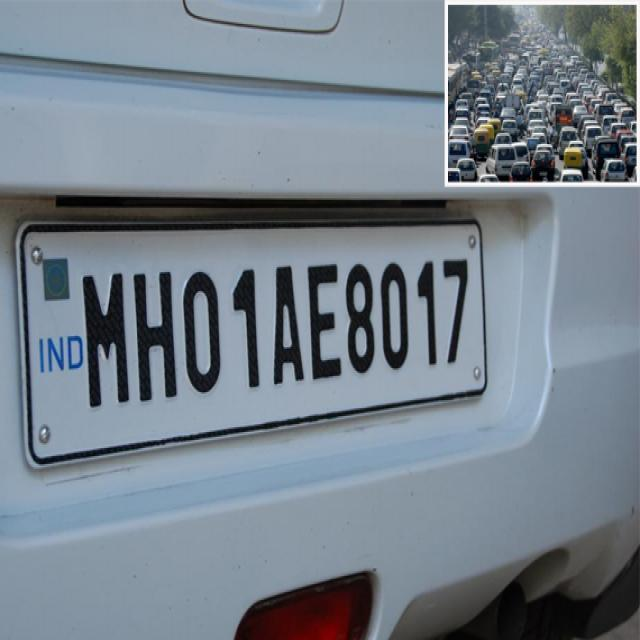License_Plate: (17, 222, 486, 464)
